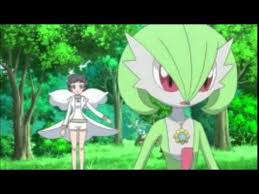gardevoir: (111, 24, 239, 170)
